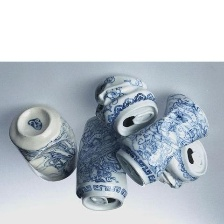can: (113, 90, 211, 188), (6, 103, 81, 183), (73, 114, 128, 214), (91, 73, 154, 137), (156, 137, 209, 191)
